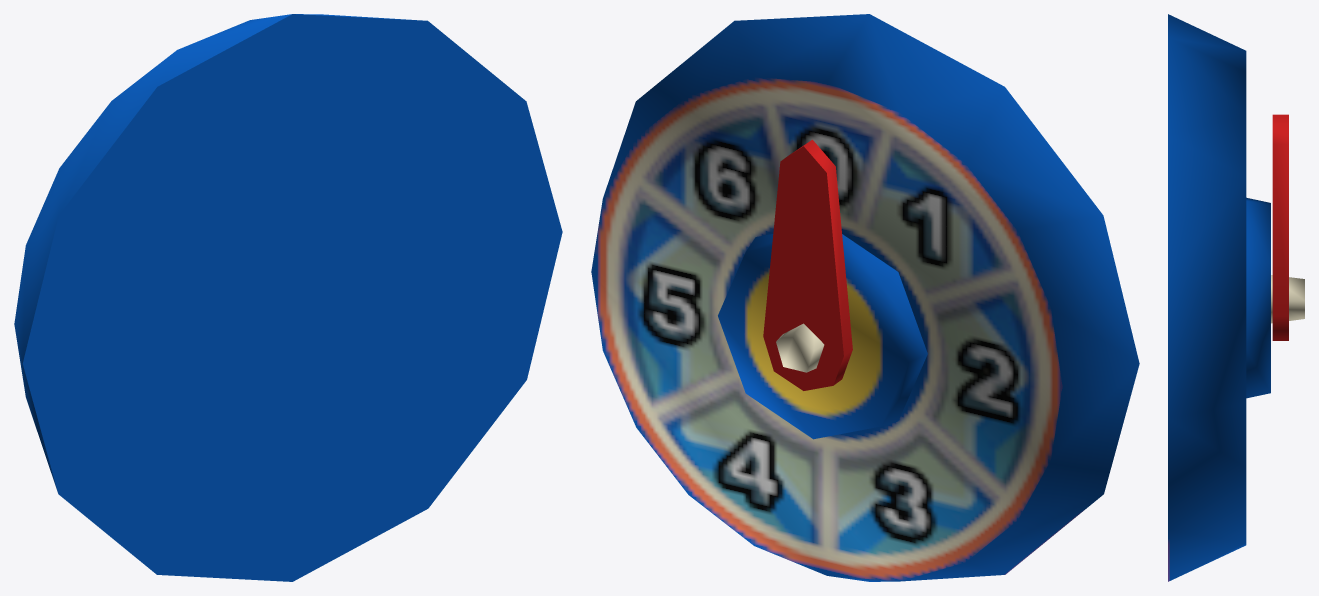
The model's file is DOKAPON.ico.obj.
3 renders of one model, left to right at view 1: azimuth 30°, elevation 25°; view 2: azimuth 150°, elevation 25°; view 3: azimuth 270°, elevation 25°, orthographic. The views are drawn at different scales.
Bounding box in the file's own units: 4.37 × 4.39 × 1.05.
